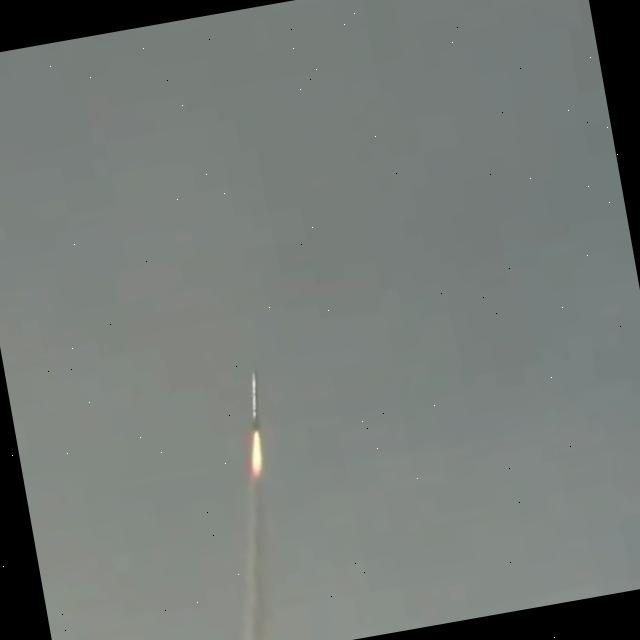rocket: (247, 377, 264, 477)
smoke_trail_with_rocket: (240, 374, 267, 640)
